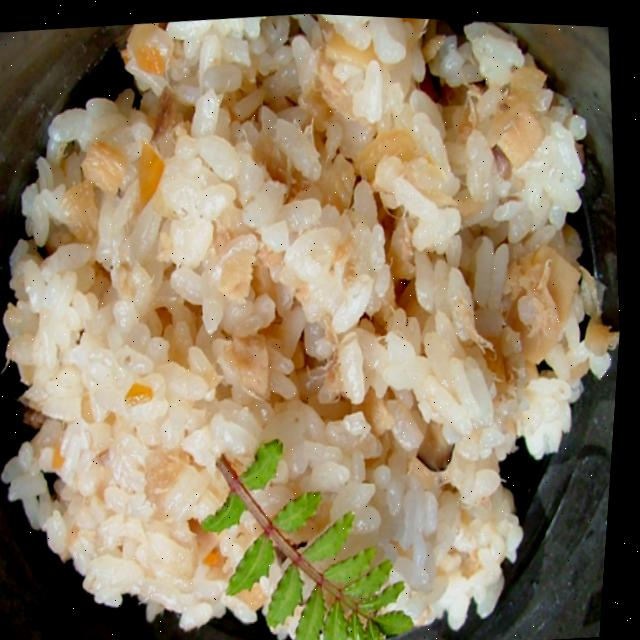米饭主食: (0, 1, 636, 640)
